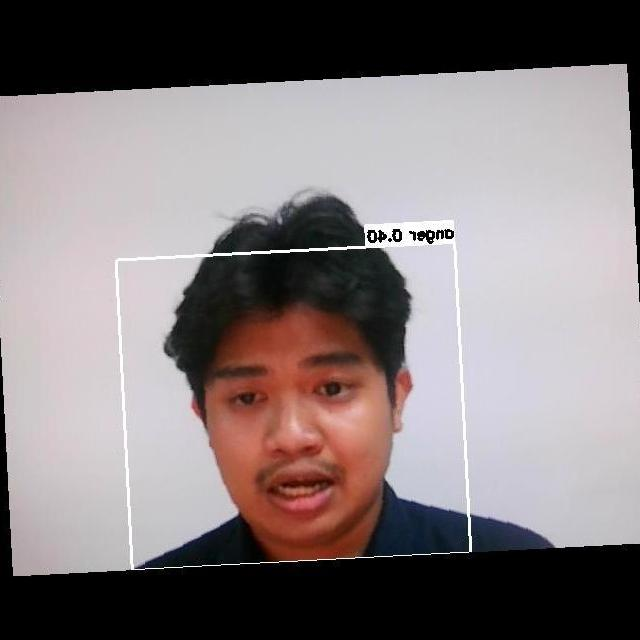Fear: (185, 320, 400, 525)
